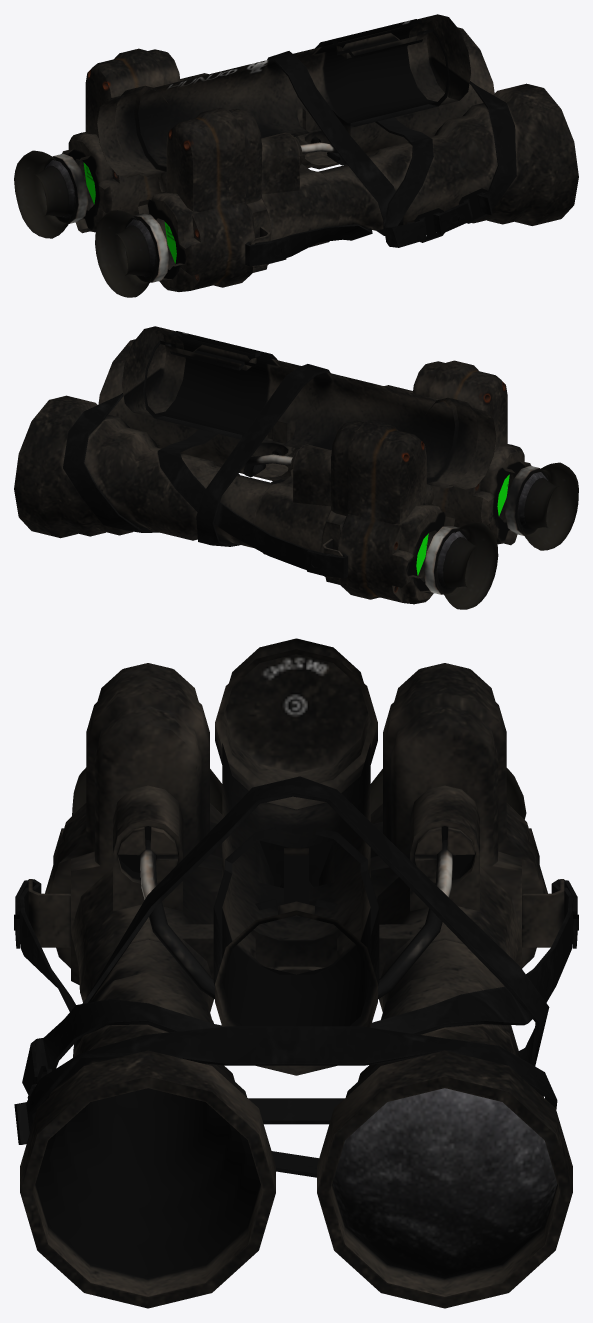
3 renders of one model, top to bottom at view 1: azimuth 30°, elevation 25°; view 2: azimuth 150°, elevation 25°; view 3: azimuth 270°, elevation 25°, orthographic. The views are drawn at different scales.
Visible parts, largest first — view 1: Govde, Kayis_ve_Metal, Bakac, Mercek, Ekran; view 2: Govde, Kayis_ve_Metal, Bakac, Mercek, Ekran; view 3: Govde, Kayis_ve_Metal, Mercek, Bakac.
Part boxes in pixels (<box>): Govde: <box>62,14,578,291</box>; Kayis_ve_Metal: <box>53,51,516,282</box>; Bakac: <box>14,150,157,297</box>; Mercek: <box>45,160,155,263</box>; Ekran: <box>83,162,176,263</box>; Govde: <box>14,326,531,604</box>; Kayis_ve_Metal: <box>63,364,540,594</box>; Bakac: <box>435,462,578,609</box>; Mercek: <box>437,472,547,573</box>; Ekran: <box>416,474,509,575</box>; Govde: <box>20,638,572,1308</box>; Kayis_ve_Metal: <box>14,776,578,1177</box>; Mercek: <box>332,1088,557,1278</box>; Bakac: <box>72,767,526,819</box>.
Size of the model in its own units: 0.3685 by 0.1484 by 0.2284.
Materials: 1 (1 with a texture image).
